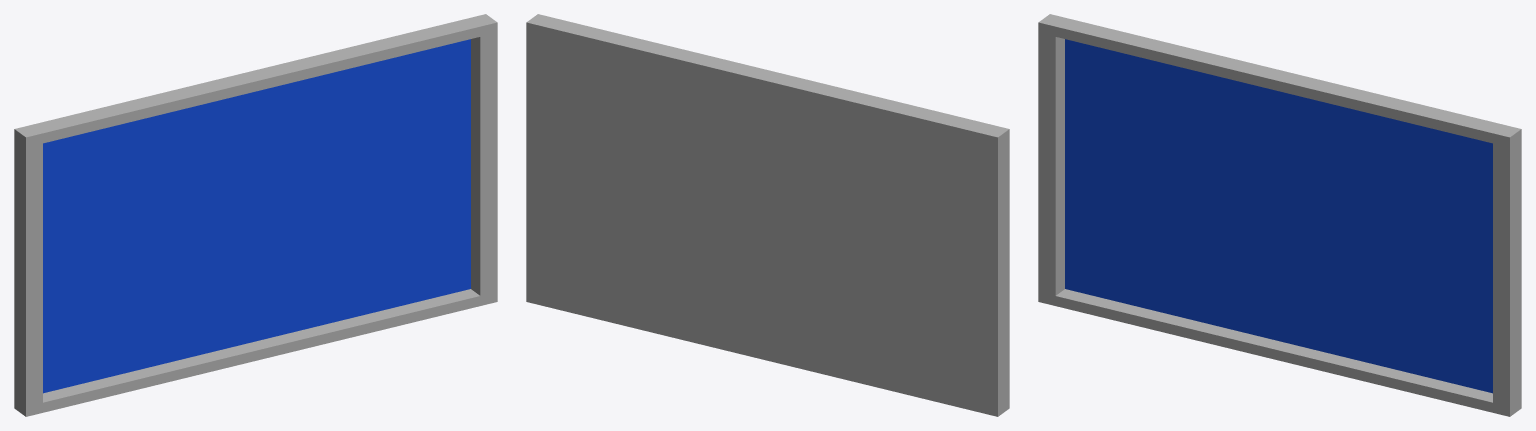
Rendered from Bord.fbx.
3 views of the same model, side by side, from view 1: azimuth 30°, elevation 25°; view 2: azimuth 150°, elevation 25°; view 3: azimuth 330°, elevation 25° (orthographic).
Visible parts, largest first — view 1: Cube.005; view 2: Cube.005; view 3: Cube.005.
Boxes of the visible parts, x1,y1,x2,y2 form: Cube.005: (14, 14, 497, 416); Cube.005: (526, 14, 1009, 416); Cube.005: (1038, 14, 1521, 416).
Bounding box in the file's own units: 1059 × 600 × 45.
